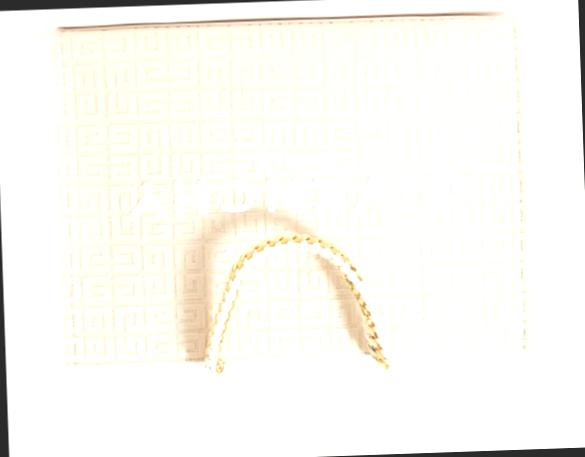GIVENCHY: (118, 156, 465, 234)
